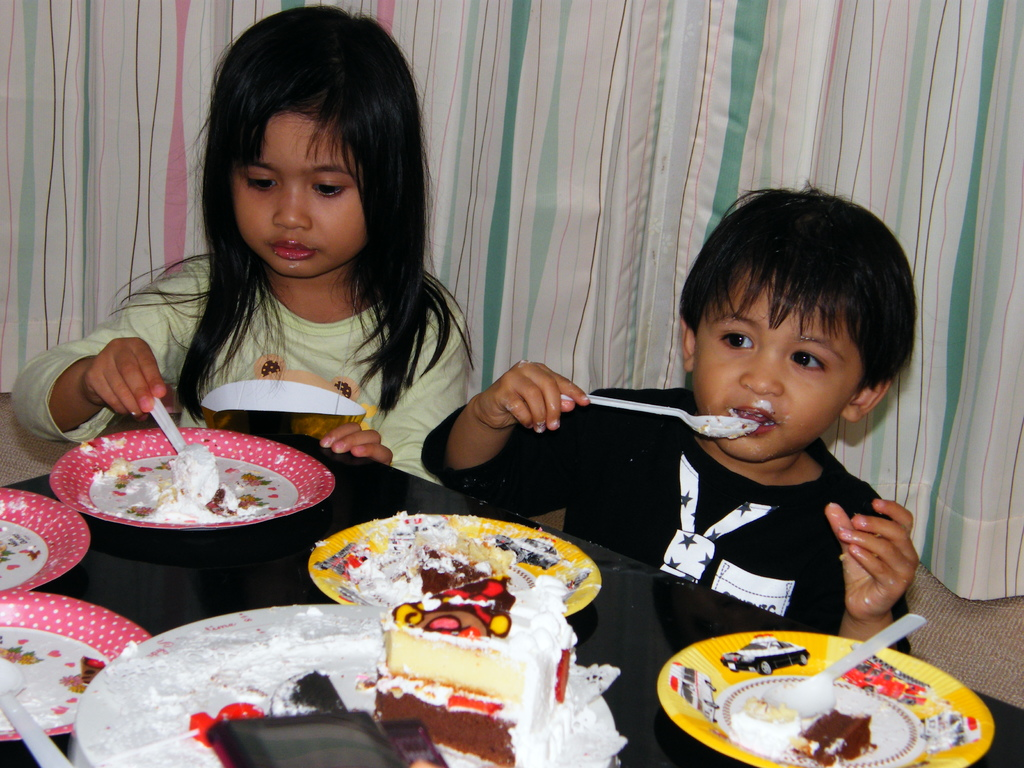cake: (376, 579, 578, 767)
